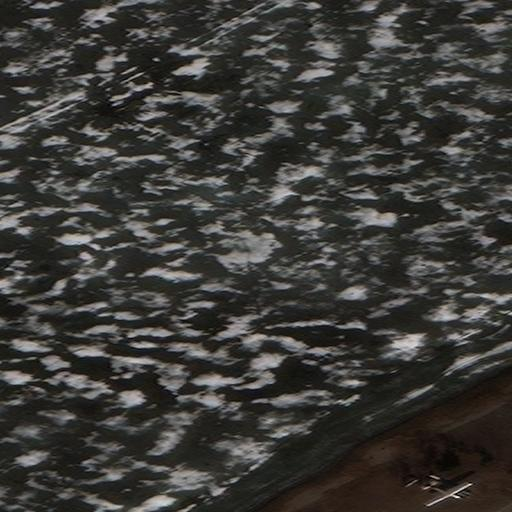Small Civil Transport: (424, 483, 474, 507)
